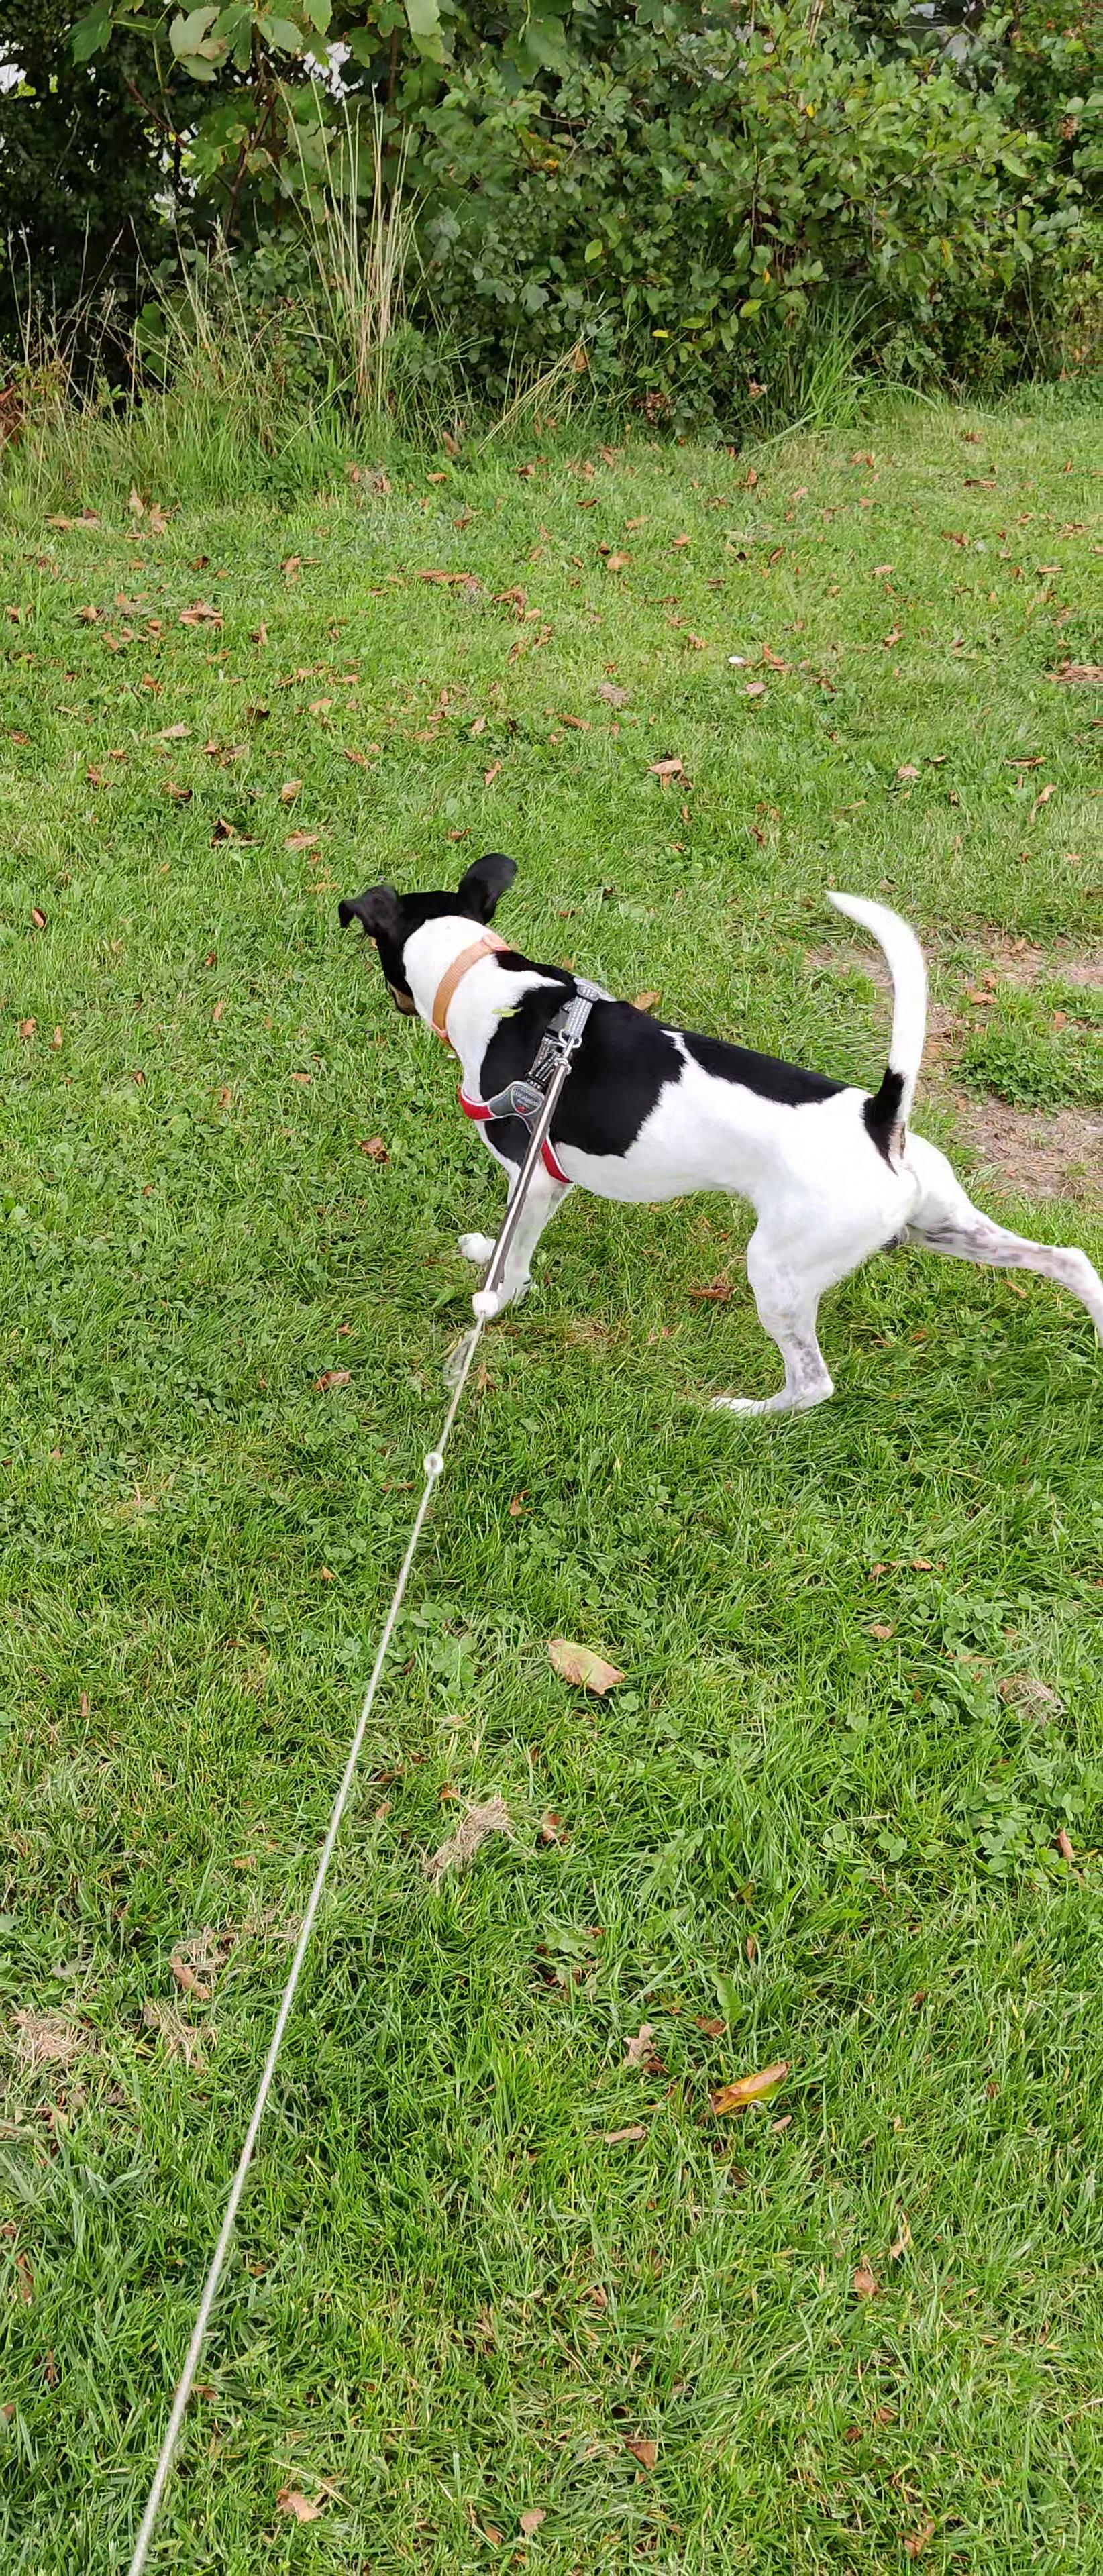Dog: (324, 844, 1103, 1423)
